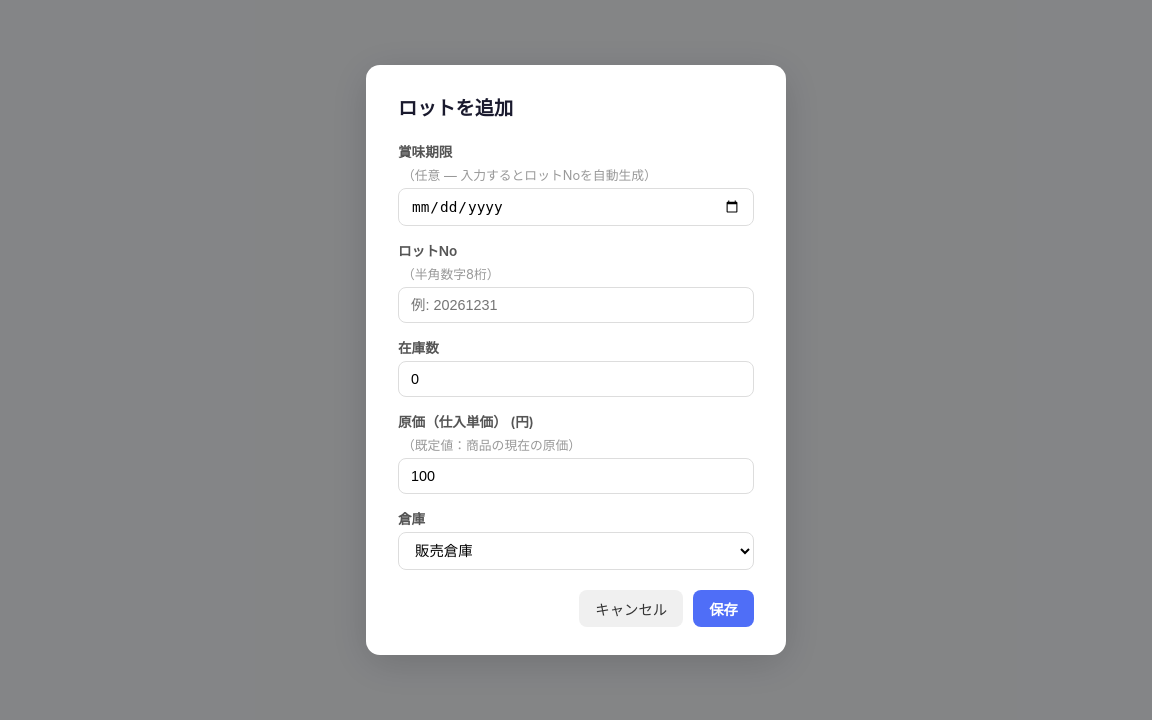
LotModal — ロットNo バリデーション › 8桁未満で保存するとエラーメッセージが表示される
In the field with placeholder "例: 20261231": (576, 305) [398,287,754,323], type "1234"
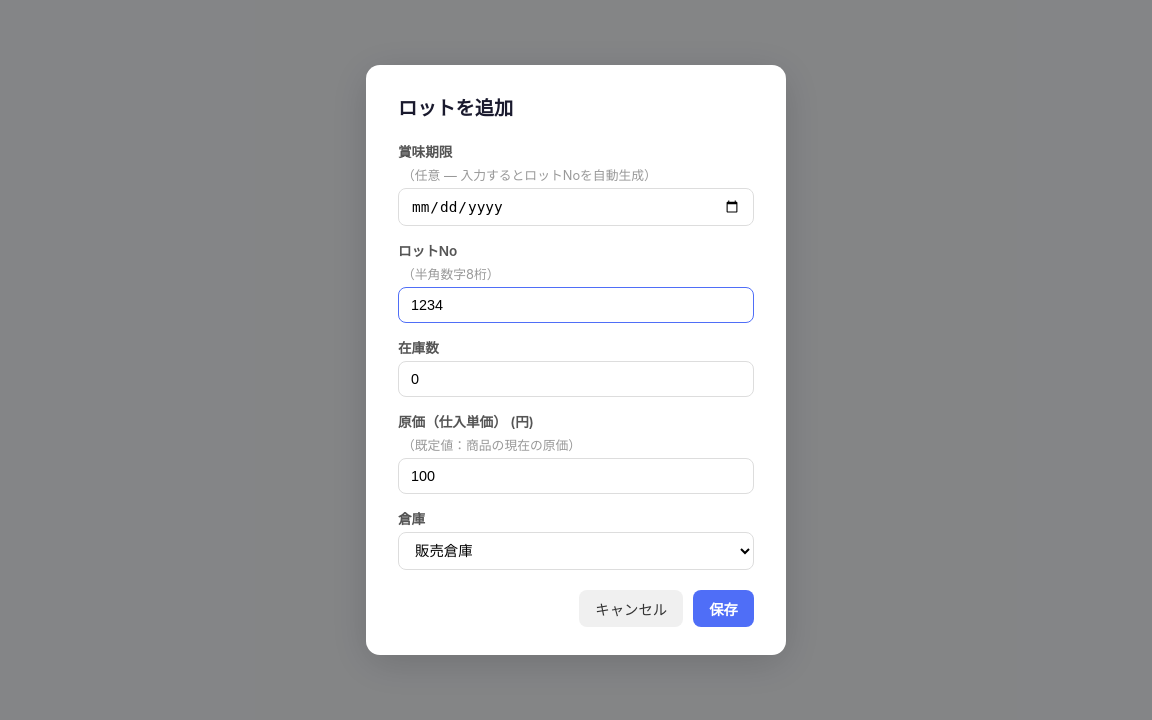
Click the button "保存": (724, 609) [693,590,754,627]
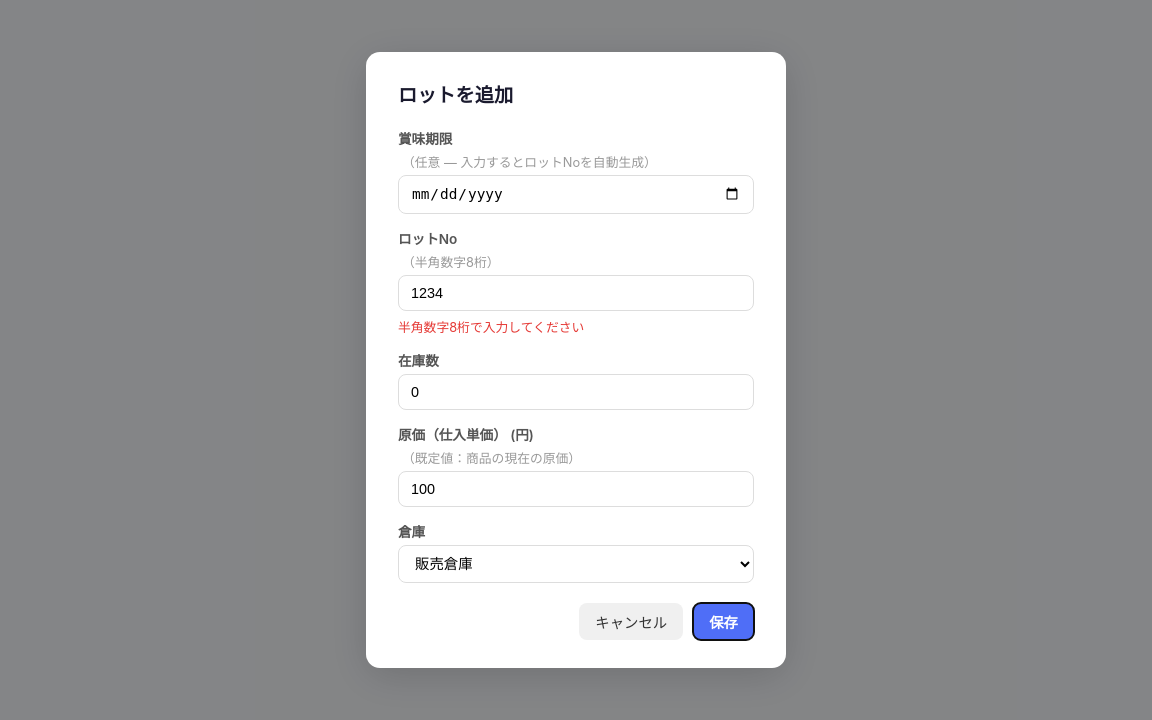
Expected: the text "半角数字8桁で入力してください" is shown, [398,320,584,335]
